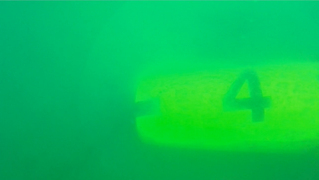4: (226, 69, 272, 122)
pipe: (134, 59, 319, 153)
